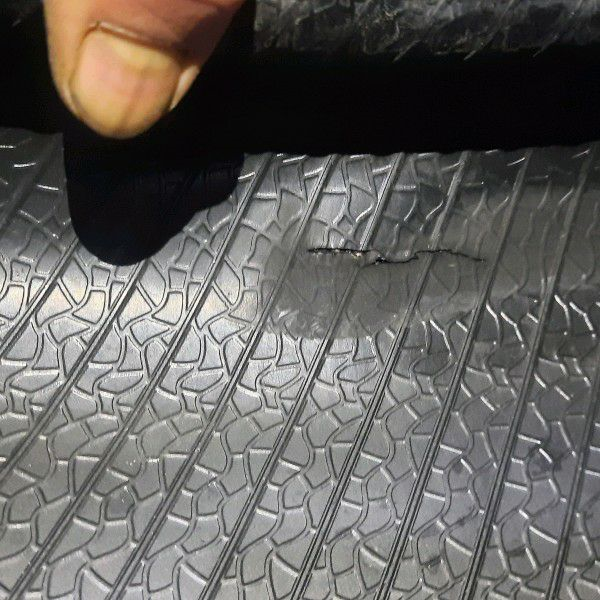CBU: (265, 211, 540, 337)
